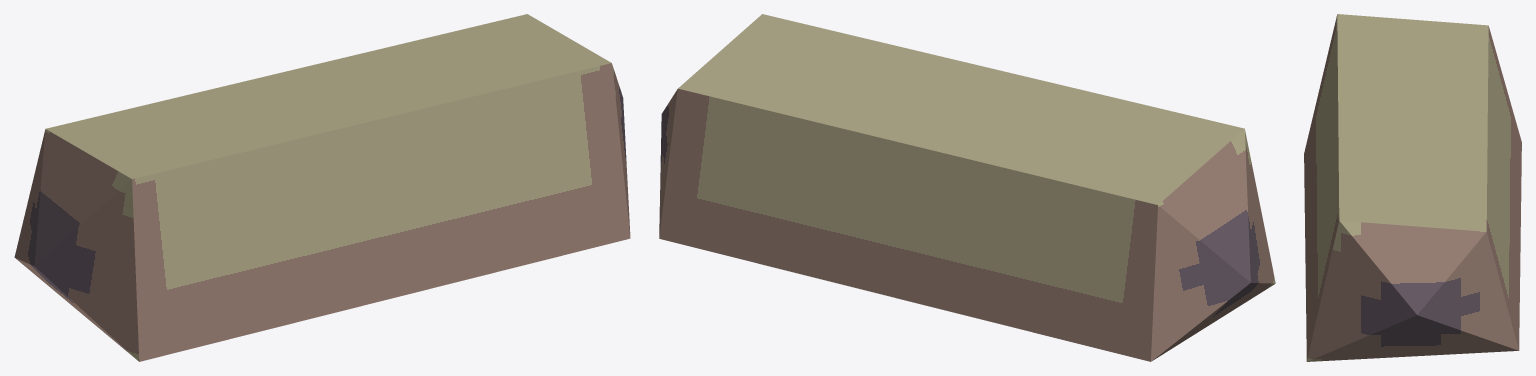
The model's file is character_forearm.glb.
The picture shows the model from 3 angles, left to right: view 1: azimuth 30°, elevation 25°; view 2: azimuth 150°, elevation 25°; view 3: azimuth 270°, elevation 25°; orthographic projection. The views are drawn at different scales.
Visible parts, largest first — view 1: Cube.051; view 2: Cube.051; view 3: Cube.051.
Part boxes in pixels (x1=…): Cube.051: x1=14, y1=14, x2=630, y2=361; Cube.051: x1=659, y1=14, x2=1275, y2=361; Cube.051: x1=1304, y1=14, x2=1521, y2=361.
Size of the model in its own units: 2.15 by 0.5782 by 0.7882.
Materials: 1 (1 with a texture image).
